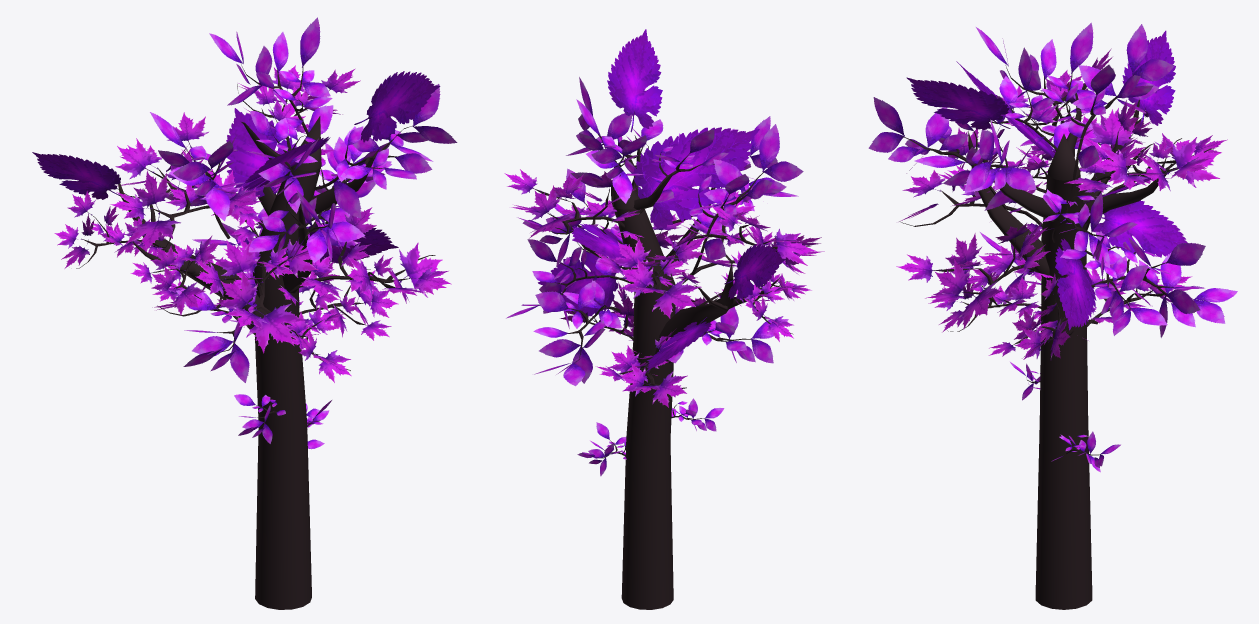
File: purpletree2.fbx
3 views of the same model, side by side, from view 1: azimuth 30°, elevation 25°; view 2: azimuth 150°, elevation 25°; view 3: azimuth 270°, elevation 25° (orthographic). The views are drawn at different scales.
Parts seen in each view (by area): view 1: purpletrees:pCylinder171; view 2: purpletrees:pCylinder171; view 3: purpletrees:pCylinder171.
Boxes of the visible parts, bbox=[...] form: purpletrees:pCylinder171: bbox=[32, 17, 457, 609]; purpletrees:pCylinder171: bbox=[504, 29, 824, 609]; purpletrees:pCylinder171: bbox=[868, 22, 1237, 609].
Bounding box in the file's own units: 20.02 × 32.17 × 19.19.
